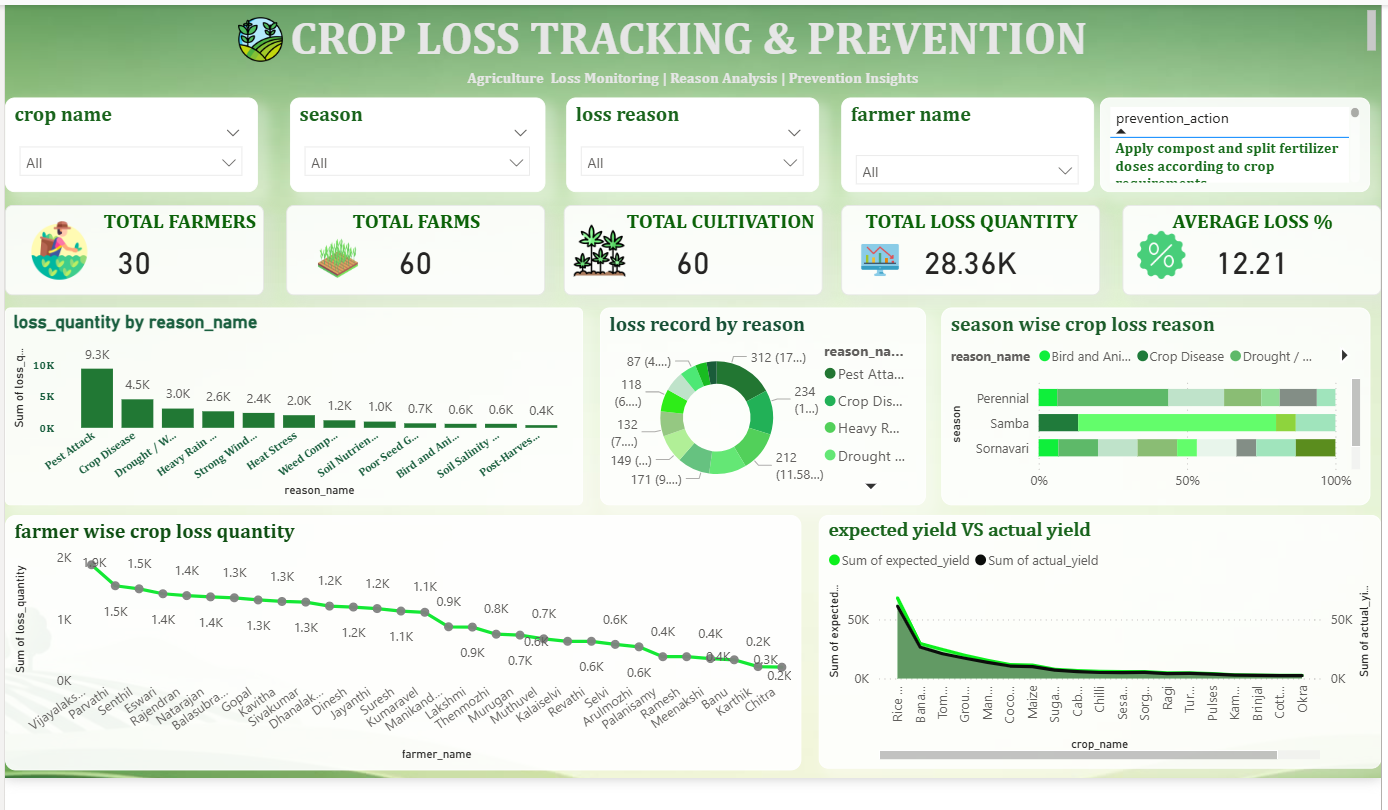

What the dashboard file says about the page in this screenshot:
{"tool":"powerbi","page":{"name":"Page 1","canvas":[1280,720],"ordinal":0},"visuals":[{"type":"textbox","box":[0,0,1280.2,53.5],"z":0},{"type":"textbox","box":[0,53.5,1280.2,32.6],"z":1000},{"type":"card","title":"TOTAL FARMERS","fields":{"Values":["CountNonNull(my_project farmer.farmer_id)"]},"box":[0,186,240.7,83.7],"z":2000},{"type":"card","title":"TOTAL CULTIVATION","fields":{"Values":["CountNonNull(my_project cultivation.cultivation_id)"]},"box":[519.8,186,240.7,83.7],"z":3000},{"type":"card","title":"TOTAL LOSS QUANTITY","fields":{"Values":["Sum(my_project crop_loss.loss_quantity)"]},"box":[777.9,186,240.7,83.7],"z":4000},{"type":"card","title":"AVERAGE LOSS %","fields":{"Values":["Avg(my_project crop_loss.loss_percentage)"]},"box":[1039.5,186,240.7,83.7],"z":5000},{"type":"card","title":"TOTAL FARMS","fields":{"Values":["CountNonNull(my_project farm.farm_id)"]},"box":[261.6,186,240.7,83.7],"z":6000},{"type":"image","box":[20.9,201.2,59.3,54.7],"z":7000},{"type":"image","box":[273.3,215.1,73.3,40.7],"z":8000},{"type":"image","box":[529.1,201.2,47.7,54.7],"z":9000},{"type":"image","box":[788.4,217.4,51.2,38.4],"z":10000},{"type":"image","box":[1047.7,209.3,55.8,46.5],"z":11000},{"type":"image","box":[210.5,10.5,54.7,43],"z":12000},{"type":"clusteredColumnChart","title":"loss_quantity by reason_name","fields":{"Category":["my_project loss_reason.reason_name"],"Y":["Sum(my_project crop_loss.loss_quantity)"]},"box":[0,281.4,537.2,183.7],"z":13000},{"type":"donutChart","title":"loss record by reason","fields":{"Y":["Sum(my_project crop_loss.loss_id)"],"Category":["my_project loss_reason.reason_name"]},"box":[553.5,281.4,303.5,183.7],"z":14000},{"type":"hundredPercentStackedBarChart","title":"season wise crop loss reason","fields":{"Category":["my_project crop.season"],"Series":["my_project loss_reason.reason_name"],"Y":["CountNonNull(my_project crop_loss.loss_id)"]},"box":[870.9,281.4,398.8,183.7],"z":15000},{"type":"lineChart","title":"farmer wise crop loss quantity","fields":{"Category":["my_project farmer.farmer_name"],"Y":["Sum(my_project crop_loss.loss_quantity)"]},"box":[0,474.4,740.7,237.2],"z":16000},{"type":"areaChart","title":"expected yield VS actual yield","fields":{"Category":["my_project crop.crop_name"],"Y":["Sum(my_project cultivation.expected_yield)"],"Y2":["Sum(my_project cultivation.actual_yield)"]},"box":[757,474.4,523.3,236],"z":17000},{"type":"slicer","title":"crop name","fields":{"Values":["my_project crop.crop_name"]},"box":[0,86,234.9,88.4],"z":18000},{"type":"slicer","title":"season","fields":{"Values":["my_project crop.season"]},"box":[265.1,86,237.2,88.4],"z":19000},{"type":"slicer","title":"farmer name","fields":{"Values":["my_project farmer.farmer_name"]},"box":[777.9,86,234.9,88.4],"z":20000},{"type":"slicer","title":"loss reason ","fields":{"Values":["my_project loss_reason.reason_name"]},"box":[522.1,86,234.9,88.4],"z":21000},{"type":"tableEx","title":"prevention measure","fields":{"Values":["my_project prevention_measure.prevention_action"]},"box":[1018.6,86,251.2,88.4],"z":22000}]}

Visuals, with their boxes on the page's 1280x720 design canvas (x1, y1, x2, y2). These are canvas units, not pixel positions in the 1388x810 screenshot, which may show the page scaled, cropped or inside an application window:
textbox: bbox(0, 0, 1280, 54)
textbox: bbox(0, 54, 1280, 86)
"TOTAL FARMERS" card: bbox(0, 186, 241, 270)
"TOTAL CULTIVATION" card: bbox(520, 186, 760, 270)
"TOTAL LOSS QUANTITY" card: bbox(778, 186, 1019, 270)
"AVERAGE LOSS %" card: bbox(1040, 186, 1280, 270)
"TOTAL FARMS" card: bbox(262, 186, 502, 270)
image: bbox(21, 201, 80, 256)
image: bbox(273, 215, 347, 256)
image: bbox(529, 201, 577, 256)
image: bbox(788, 217, 840, 256)
image: bbox(1048, 209, 1104, 256)
image: bbox(210, 10, 265, 54)
"loss_quantity by reason_name" clusteredColumnChart: bbox(0, 281, 537, 465)
"loss record by reason" donutChart: bbox(554, 281, 857, 465)
"season wise crop loss reason" hundredPercentStackedBarChart: bbox(871, 281, 1270, 465)
"farmer wise crop loss quantity" lineChart: bbox(0, 474, 741, 712)
"expected yield VS actual yield" areaChart: bbox(757, 474, 1280, 710)
"crop name" slicer: bbox(0, 86, 235, 174)
"season" slicer: bbox(265, 86, 502, 174)
"farmer name" slicer: bbox(778, 86, 1013, 174)
"loss reason " slicer: bbox(522, 86, 757, 174)
"prevention measure" tableEx: bbox(1019, 86, 1270, 174)
